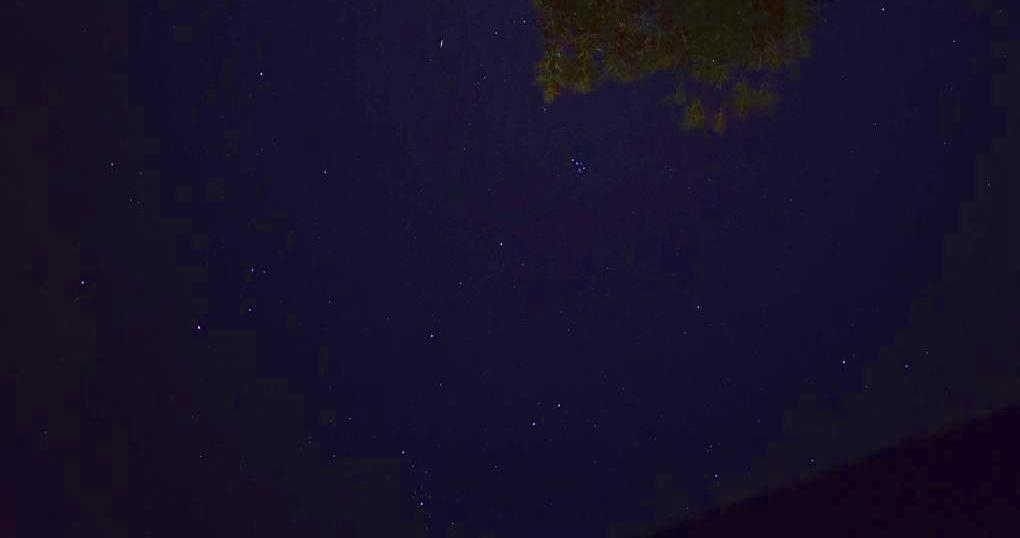meteorite: (429, 34, 453, 51)
